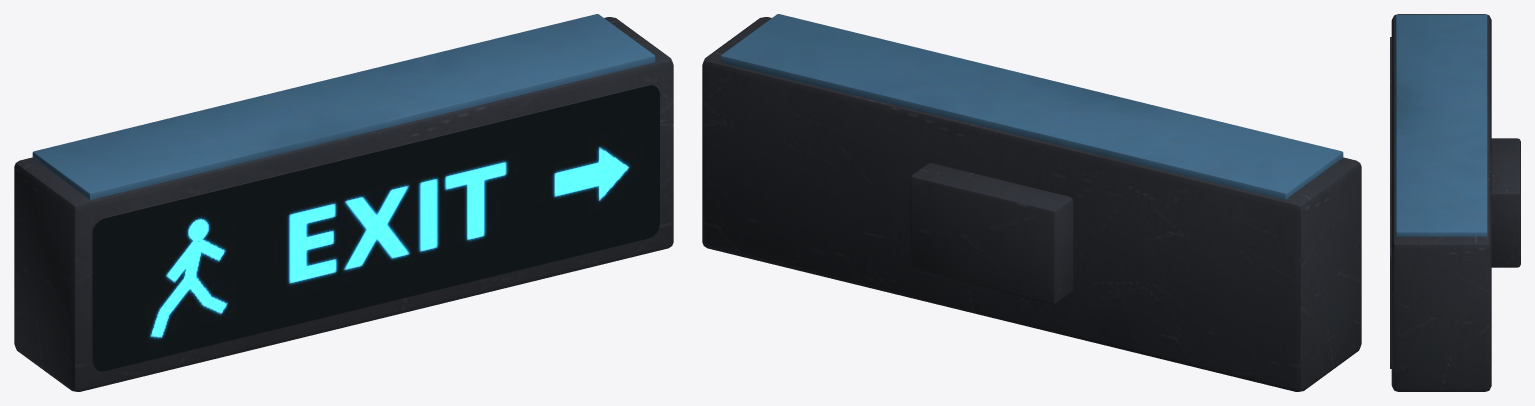
File: exit_sign.glb
3 renders of one model, left to right at view 1: azimuth 30°, elevation 25°; view 2: azimuth 150°, elevation 25°; view 3: azimuth 270°, elevation 25°, orthographic. The views are drawn at different scales.
Visible parts, largest first — view 1: ExitSignMesh; view 2: ExitSignMesh; view 3: ExitSignMesh.
Part boxes in pixels (box(x1,y1,x2,y2)): ExitSignMesh: box(14, 14, 673, 391); ExitSignMesh: box(702, 14, 1361, 391); ExitSignMesh: box(1390, 14, 1520, 391).
Size of the model in its own units: 0.66 by 0.206 by 0.157.
Materials: 3 (3 with a texture image).
